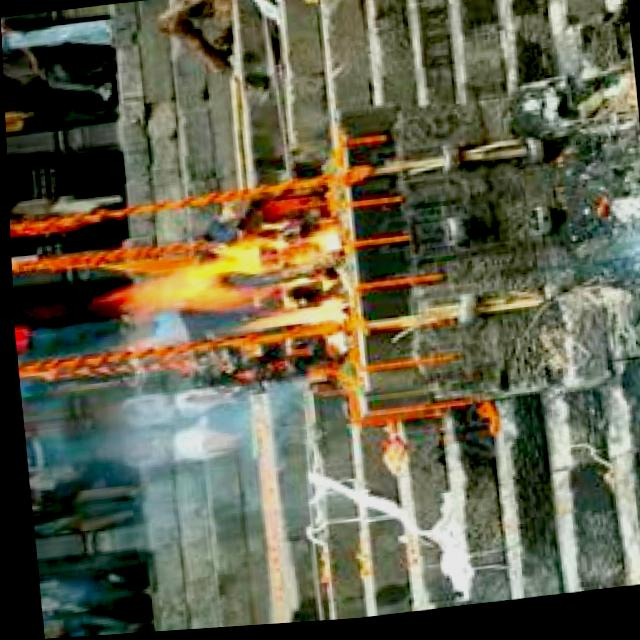Fire: (83, 211, 347, 363)
